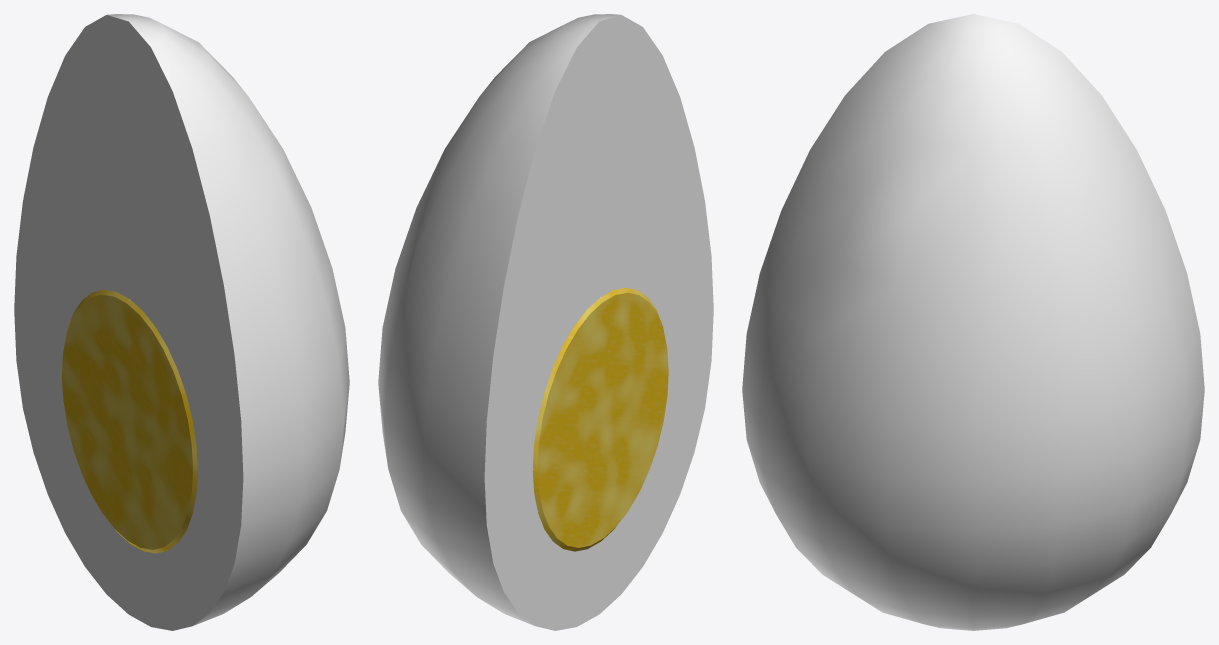
File: Boiled_Egg_Sample_Geo.fbx
3 views of the same model, side by side, from view 1: azimuth 30°, elevation 25°; view 2: azimuth 150°, elevation 25°; view 3: azimuth 270°, elevation 25° (orthographic).
Parts seen in each view (by area): view 1: Boiled_Egg_Sample; view 2: Boiled_Egg_Sample; view 3: Boiled_Egg_Sample.
Part boxes in pixels (x1,y1,x2,y2): Boiled_Egg_Sample: [14, 14, 349, 630]; Boiled_Egg_Sample: [378, 14, 713, 630]; Boiled_Egg_Sample: [742, 14, 1204, 630].
Bounding box in the file's own units: 34.37 × 99.97 × 70.02.
1 material, 1 textured.
